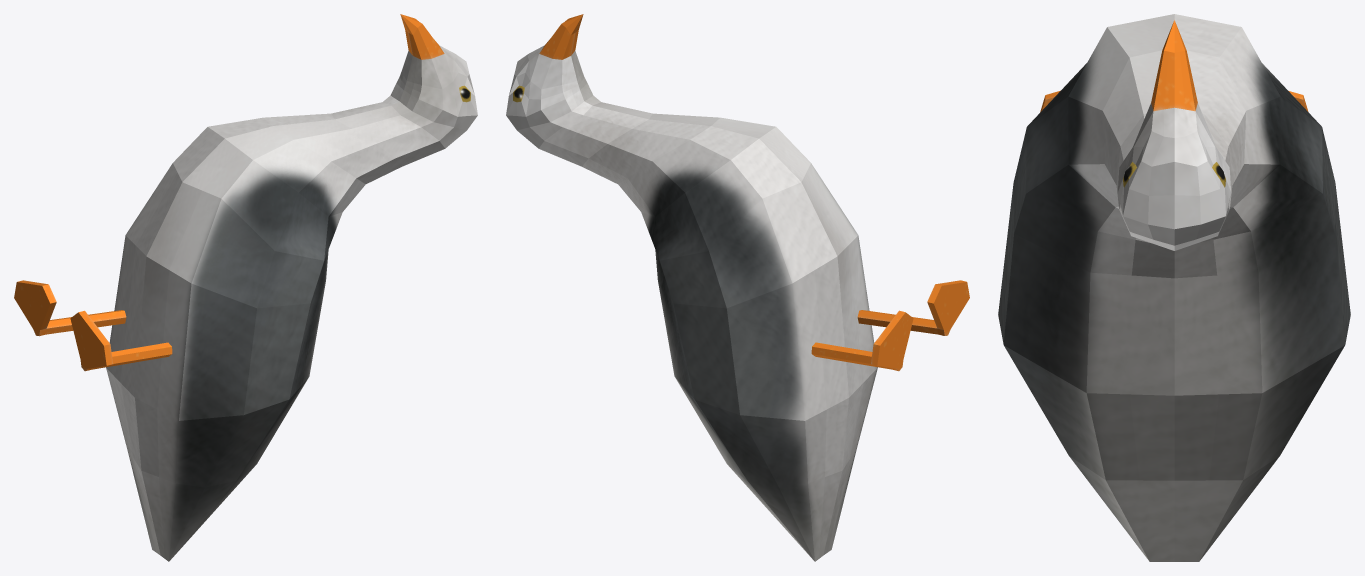
The model's file is bird.glb.
3 views of the same model, side by side, from view 1: azimuth 30°, elevation 25°; view 2: azimuth 150°, elevation 25°; view 3: azimuth 270°, elevation 25° (orthographic). The views are drawn at different scales.
Parts seen in each view (by area): view 1: body; view 2: body; view 3: body.
Boxes of the visible parts, left/top/right/bottom form: body: left=14, top=14, right=477, bottom=561; body: left=506, top=14, right=969, bottom=561; body: left=998, top=14, right=1350, bottom=561.
Size of the model in its own units: 2.73 by 3.07 by 1.37.
1 material, 1 textured.
